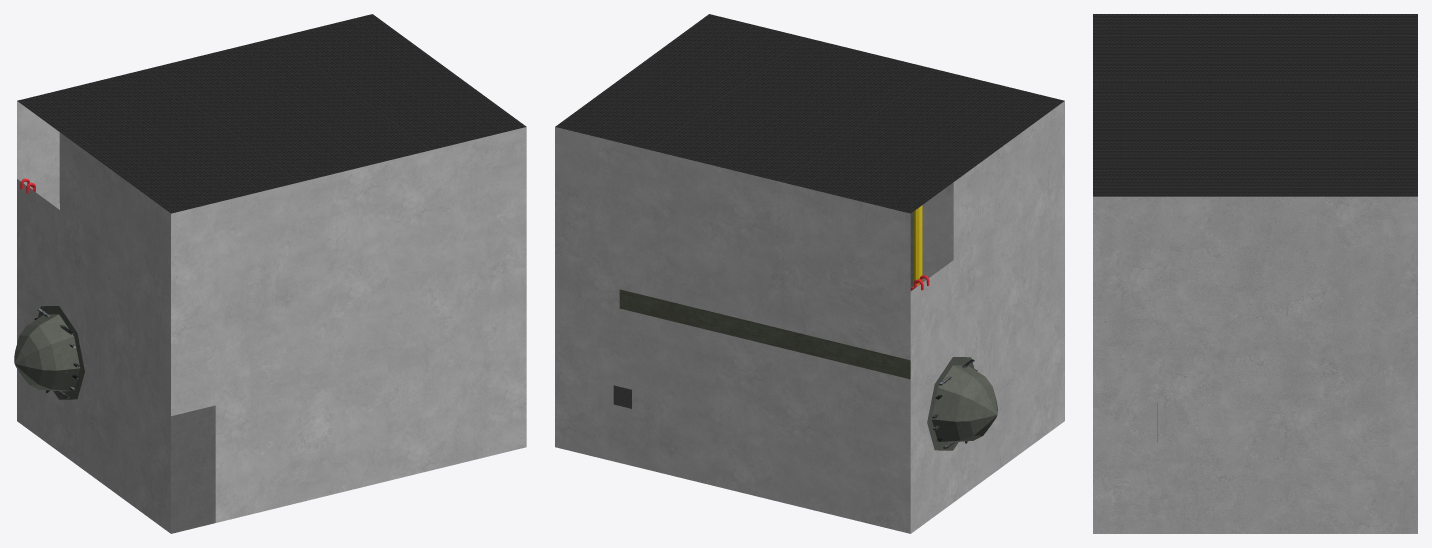
The model's file is Room_14 (2).fbx.
3 views of the same model, side by side, from view 1: azimuth 30°, elevation 25°; view 2: azimuth 150°, elevation 25°; view 3: azimuth 270°, elevation 25° (orthographic). The views are drawn at different scales.
Visible parts, largest first — view 1: Cube.064, Cube.129, Cube.070, Circle.001; view 2: Cube.064, Cube.129, Cube.072, Circle.001, Cylinder.009; view 3: Cube.064, Cube.129.
Part boxes in pixels (box(x1,y1,x2,y2)): Cube.064: box(17, 101, 526, 533); Cube.129: box(17, 14, 526, 213); Cube.070: box(171, 405, 215, 533); Circle.001: box(14, 306, 84, 399); Cube.064: box(555, 101, 1064, 533); Cube.129: box(555, 14, 1064, 213); Cube.072: box(619, 289, 910, 379); Circle.001: box(927, 357, 997, 450); Cylinder.009: box(913, 205, 922, 286); Cube.064: box(1093, 196, 1417, 533); Cube.129: box(1093, 14, 1417, 196).
Bounding box in the file's own units: 4496 × 3437 × 2999.
